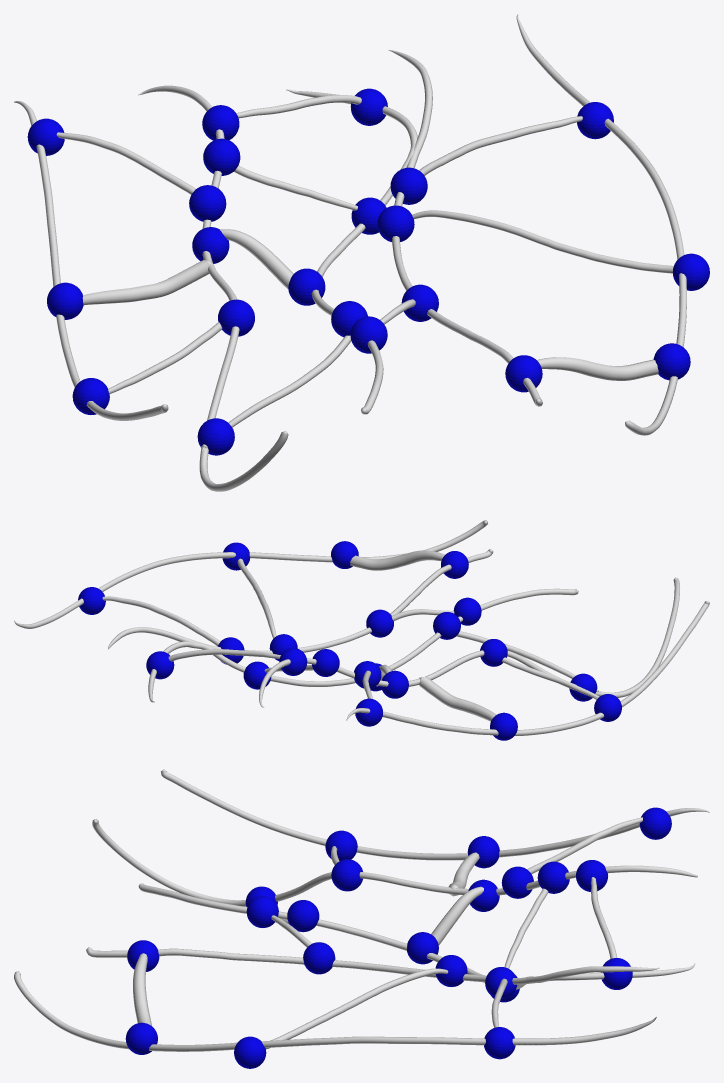
File: Duroplast_Nudel.glb
3 views of the same model, one above another, from view 1: azimuth 30°, elevation 25°; view 2: azimuth 150°, elevation 25°; view 3: azimuth 270°, elevation 25° (orthographic). The views are drawn at different scales.
Visible parts, largest first — view 1: brush_Wire_g0_b0, Sphere.009, Sphere.012, Sphere.016, Sphere.019, Sphere.010, Sphere.005, Sphere.001, Sphere.018, Sphere.007, Sphere.006, Sphere.004 (+10 smaller); view 2: brush_Wire_g0_b0, Sphere.014, Sphere.008, Sphere.012, Sphere.017, Sphere.013, Sphere.016, Sphere.018, Sphere.002, Sphere.006, Sphere.011, Sphere.004 (+9 smaller); view 3: brush_Wire_g0_b0, Sphere.008, Sphere.003, Sphere.014, Sphere.015, Sphere.018, Sphere.002, Sphere.006, Sphere.005, Sphere.012, Sphere.009, Sphere.007 (+8 smaller).
Part boxes in pixels (bbox=[...]): brush_Wire_g0_b0: bbox=[14, 14, 686, 491]; Sphere.009: bbox=[189, 185, 226, 221]; Sphere.012: bbox=[203, 138, 240, 175]; Sphere.016: bbox=[47, 282, 83, 319]; Sphere.019: bbox=[197, 418, 234, 455]; Sphere.010: bbox=[377, 205, 414, 241]; Sphere.005: bbox=[653, 343, 690, 380]; Sphere.001: bbox=[390, 167, 427, 204]; Sphere.018: bbox=[218, 299, 254, 336]; Sphere.007: bbox=[288, 268, 325, 305]; Sphere.006: bbox=[350, 316, 387, 353]; Sphere.004: bbox=[505, 355, 542, 392]; brush_Wire_g0_b0: bbox=[14, 520, 709, 735]; Sphere.014: bbox=[433, 612, 460, 639]; Sphere.008: bbox=[366, 609, 393, 637]; Sphere.012: bbox=[312, 649, 339, 676]; Sphere.017: bbox=[594, 694, 621, 721]; Sphere.013: bbox=[381, 670, 408, 698]; Sphere.016: bbox=[490, 712, 517, 740]; Sphere.018: bbox=[480, 639, 507, 666]; Sphere.002: bbox=[78, 587, 105, 614]; Sphere.006: bbox=[453, 597, 481, 625]; Sphere.011: bbox=[146, 651, 174, 679]; Sphere.004: bbox=[441, 551, 468, 578]; brush_Wire_g0_b0: bbox=[14, 769, 709, 1051]; Sphere.008: bbox=[303, 942, 335, 974]; Sphere.003: bbox=[234, 1036, 266, 1068]; Sphere.014: bbox=[287, 900, 319, 932]; Sphere.015: bbox=[639, 807, 671, 839]; Sphere.018: bbox=[331, 859, 362, 891]; Sphere.002: bbox=[484, 1027, 515, 1059]; Sphere.006: bbox=[246, 896, 278, 927]; Sphere.005: bbox=[125, 1022, 157, 1054]; Sphere.012: bbox=[537, 861, 569, 893]; Sphere.009: bbox=[501, 866, 533, 898]; Sphere.007: bbox=[407, 932, 438, 964].
Size of the model in its own units: 1.22 by 0.2933 by 1.31.
